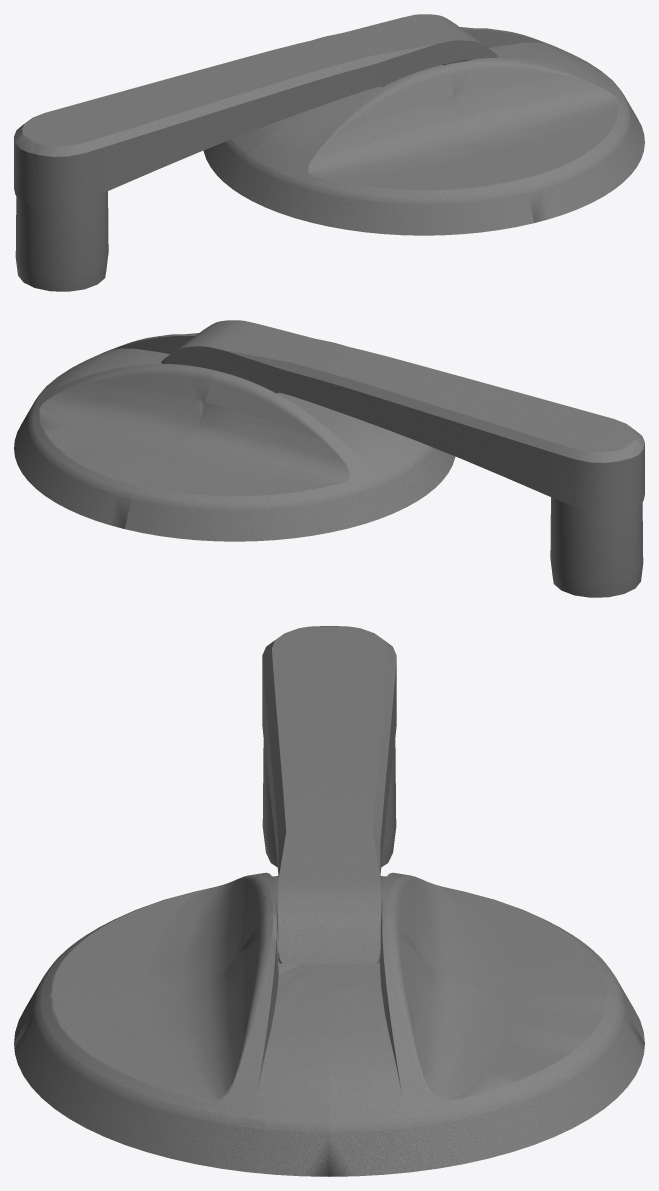
File: DL_50_Mini.glb
The picture shows the model from 3 angles, top to bottom: view 1: azimuth 30°, elevation 25°; view 2: azimuth 150°, elevation 25°; view 3: azimuth 270°, elevation 25°; orthographic projection. The views are drawn at different scales.
Parts seen in each view (by area): view 1: Siteco DL 50 Mini; view 2: Siteco DL 50 Mini; view 3: Siteco DL 50 Mini.
Part boxes in pixels (left/top/right/bottom): Siteco DL 50 Mini: left=14, top=14, right=644, bottom=291; Siteco DL 50 Mini: left=14, top=320, right=644, bottom=597; Siteco DL 50 Mini: left=14, top=626, right=644, bottom=1176.
Bounding box in the file's own units: 0.7764 × 0.1955 × 0.5.
3 materials, 3 textured.
